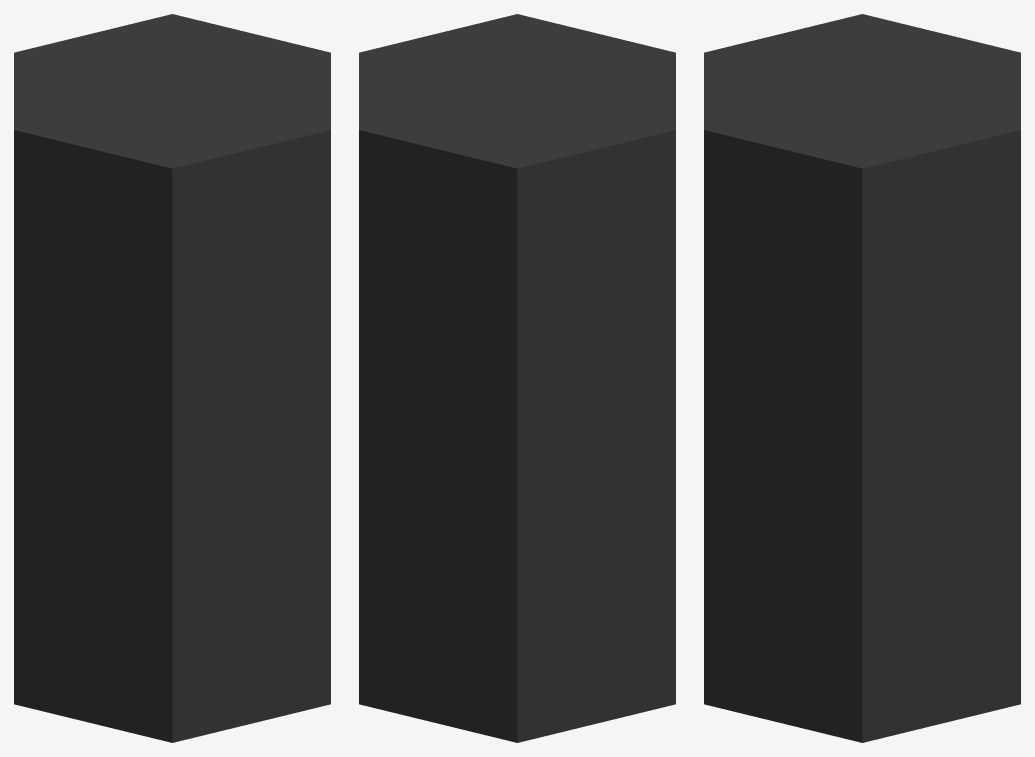
File: wall.gltf
3 renders of one model, left to right at view 1: azimuth 30°, elevation 25°; view 2: azimuth 150°, elevation 25°; view 3: azimuth 270°, elevation 25°, orthographic.
Visible parts, largest first — view 1: Circle; view 2: Circle; view 3: Circle.
Part boxes in pixels (x1,y1,x2,y2): Circle: [14, 14, 330, 742]; Circle: [359, 14, 675, 742]; Circle: [704, 14, 1020, 742].
Bounding box in the file's own units: 1.15 × 2 × 1.
Materials: 1 (1 with a texture image).
